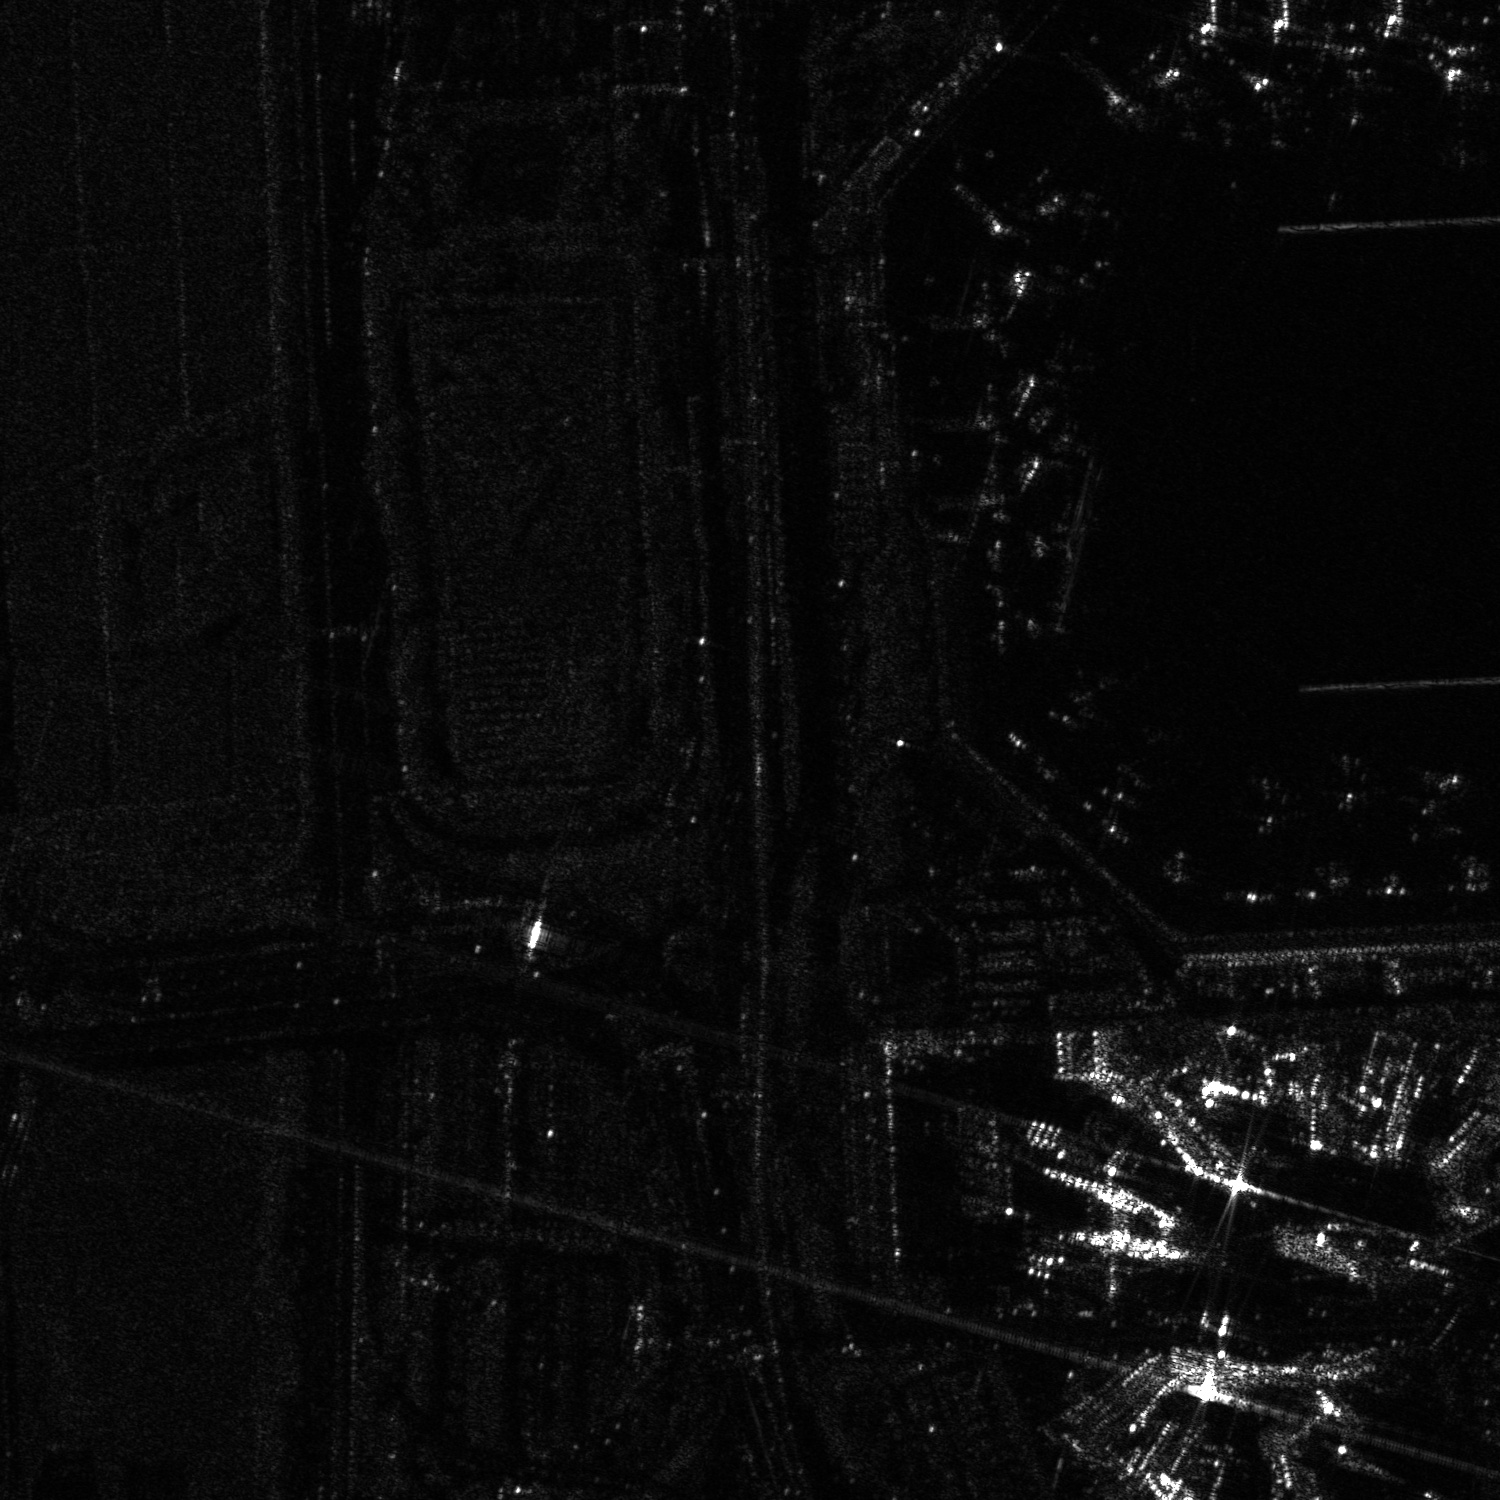A220: (1029, 668, 1150, 734), (1313, 63, 1400, 144), (1304, 750, 1398, 819)
A320/321: (1004, 321, 1120, 418)
Boeing737: (1217, 776, 1323, 841), (1234, 87, 1315, 158)
Boeing787: (1409, 65, 1499, 169)
other: (1385, 762, 1473, 854)
